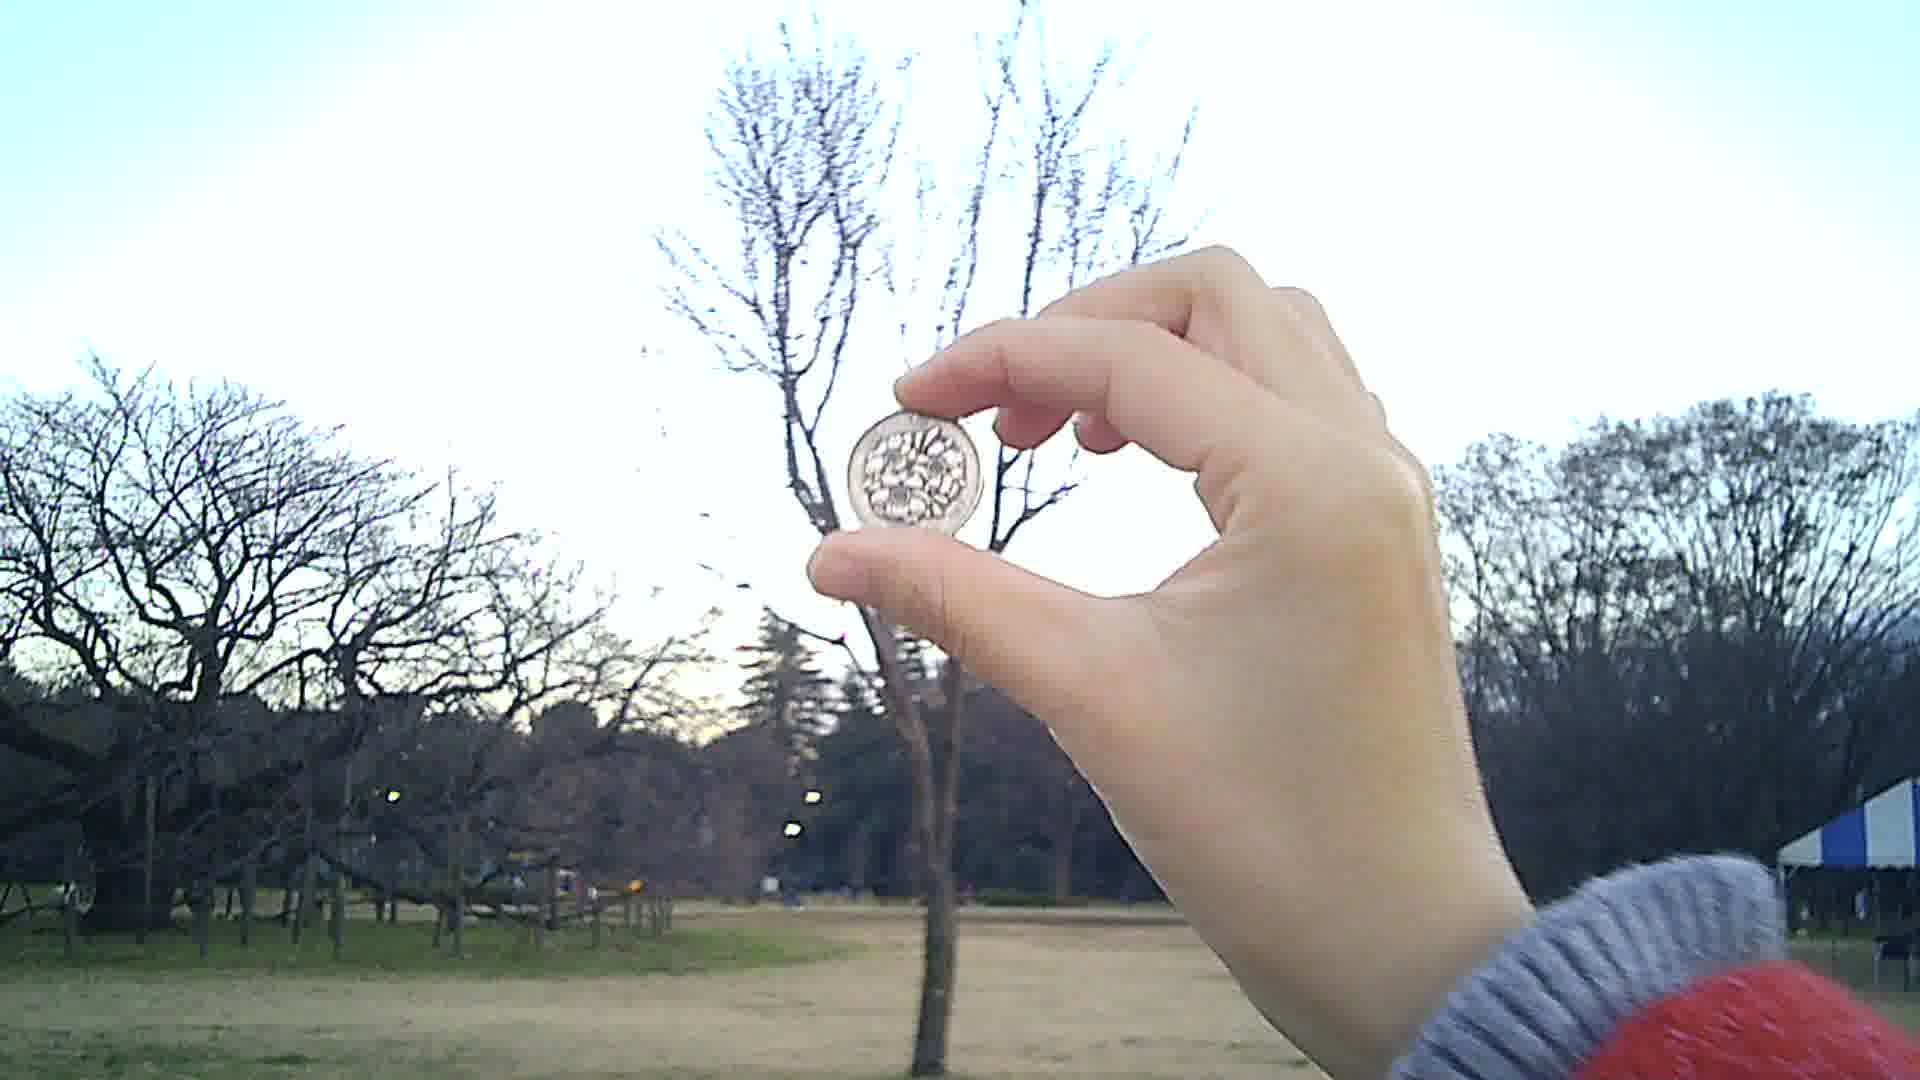100 Yen: (845, 404, 993, 549)
